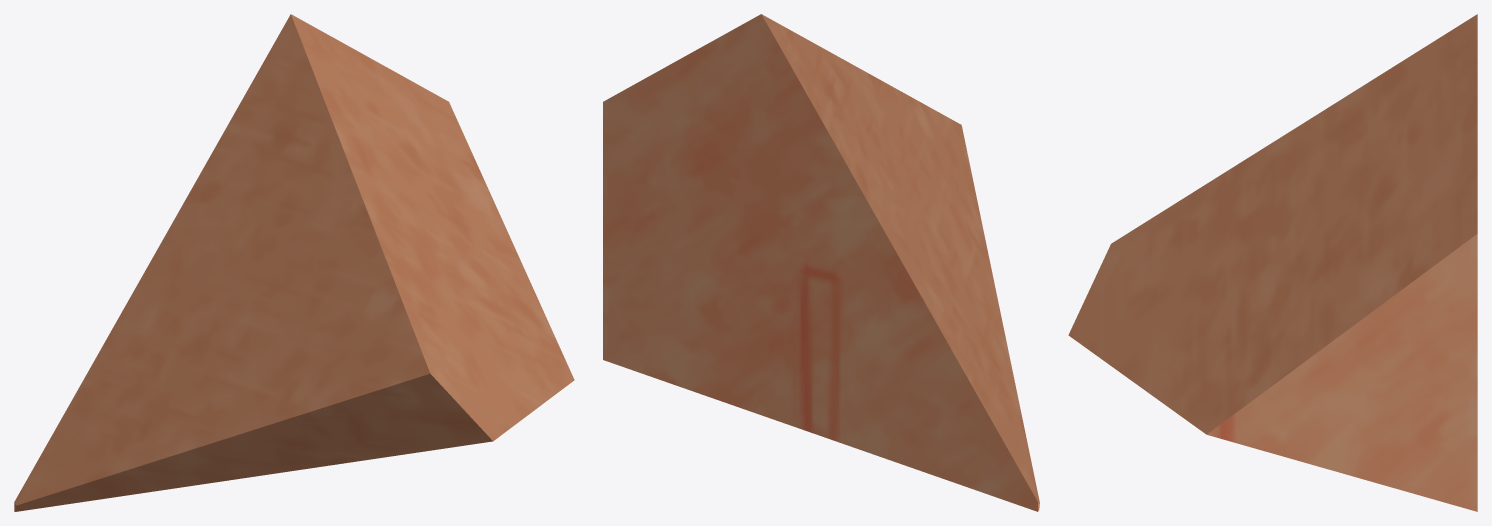
The model's file is townwall_tower_s03.fbx.
The picture shows the model from 3 angles, left to right: view 1: azimuth 30°, elevation 25°; view 2: azimuth 150°, elevation 25°; view 3: azimuth 270°, elevation 25°; orthographic projection. The views are drawn at different scales.
Parts seen in each view (by area): view 1: townwall_tower_s03; view 2: townwall_tower_s03; view 3: townwall_tower_s03.
Part boxes in pixels (<box>): townwall_tower_s03: <box>14,14,574,511</box>; townwall_tower_s03: <box>603,14,1039,511</box>; townwall_tower_s03: <box>1068,14,1477,511</box>.
Size of the model in its own units: 6.6 by 6.24 by 4.99.
